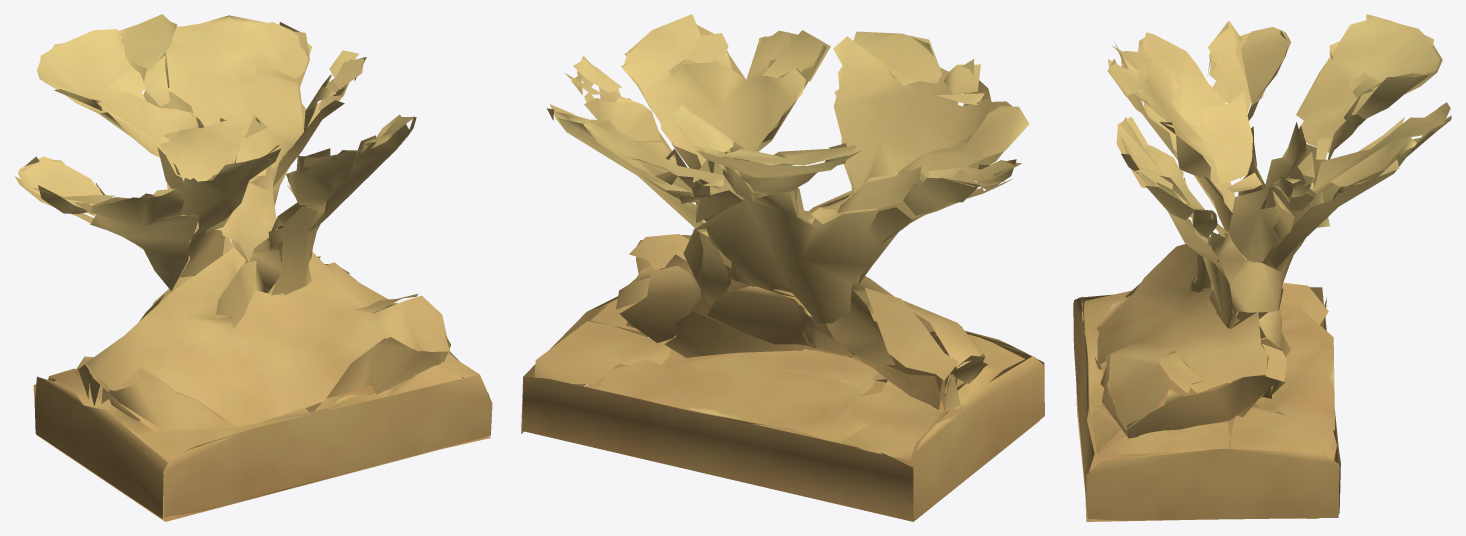
The model's file is acropora_palmata_lo.glb.
3 renders of one model, left to right at view 1: azimuth 30°, elevation 25°; view 2: azimuth 150°, elevation 25°; view 3: azimuth 270°, elevation 25°, orthographic. The views are drawn at different scales.
Parts seen in each view (by area): view 1: acropora_palmata_far; view 2: acropora_palmata_far; view 3: acropora_palmata_far.
Part boxes in pixels (x1,y1,x2,y2): acropora_palmata_far: (15,14,492,521); acropora_palmata_far: (521,14,1044,521); acropora_palmata_far: (1073,14,1451,521).
Size of the model in its own units: 0.4482 by 0.3842 by 0.3638.
1 material, 1 textured.
